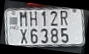character: (29, 10, 38, 27), (19, 11, 27, 27), (60, 10, 68, 26), (19, 28, 27, 44), (30, 28, 38, 44), (60, 27, 68, 43), (40, 28, 48, 43), (50, 28, 58, 43), (50, 10, 57, 26), (41, 10, 46, 27)
